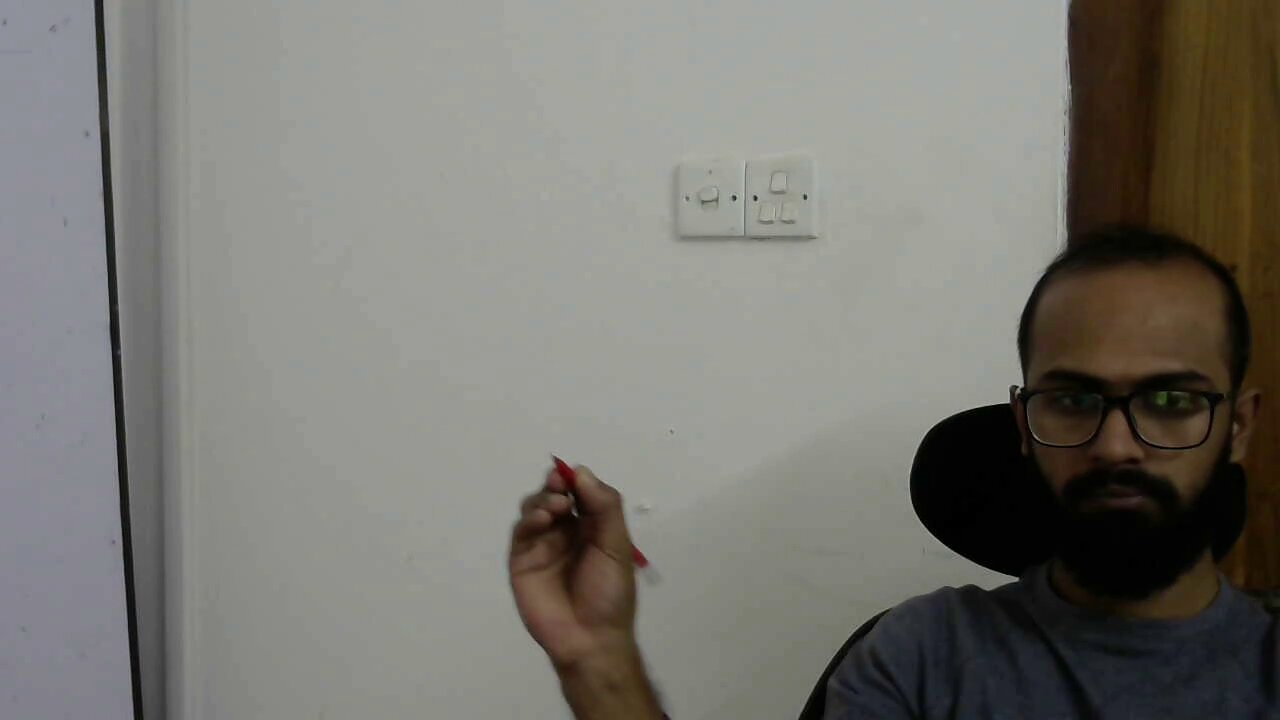pointer: (502, 467, 634, 604)
